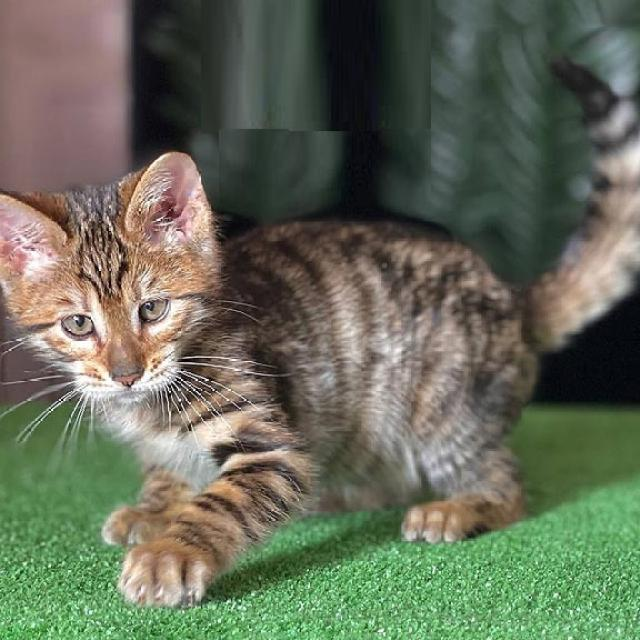Toyger: (0, 57, 640, 609)
